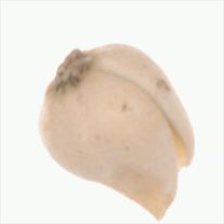L1: (150, 148, 193, 222), (47, 46, 94, 88)
L2: (40, 42, 196, 221)
